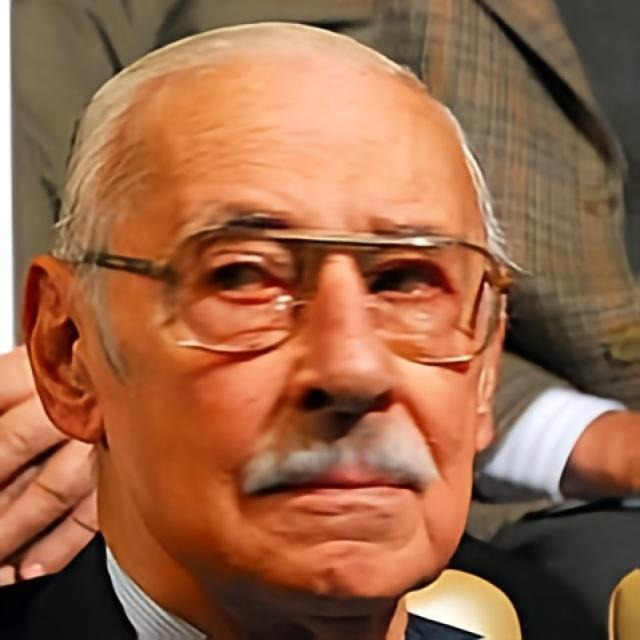anger: (111, 70, 489, 598)
